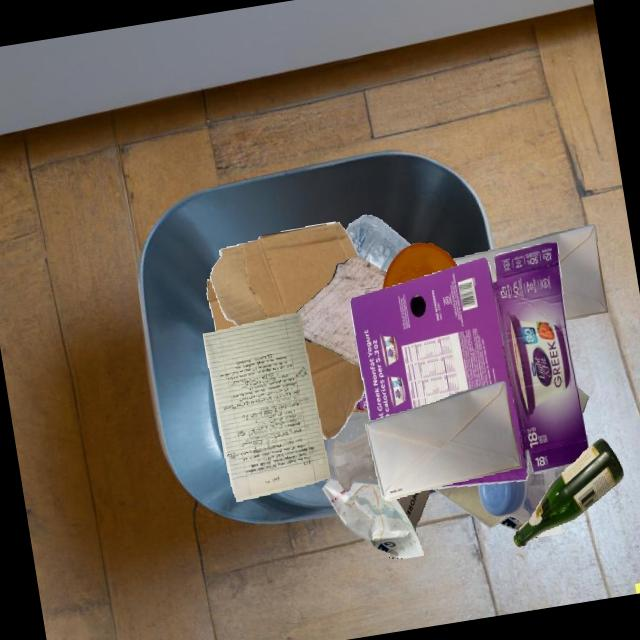cardboard: (350, 242, 588, 489), (210, 222, 359, 326), (305, 339, 365, 440), (434, 485, 510, 528), (207, 279, 237, 331), (352, 392, 369, 413)
glass: (513, 439, 624, 548), (331, 432, 377, 491)
paper: (203, 312, 331, 502), (365, 381, 522, 501), (452, 224, 608, 320), (296, 256, 387, 366), (322, 478, 431, 559), (510, 415, 582, 525)
plastic: (478, 454, 572, 524), (353, 441, 434, 489), (345, 215, 411, 272), (382, 243, 457, 289), (323, 413, 370, 481)
